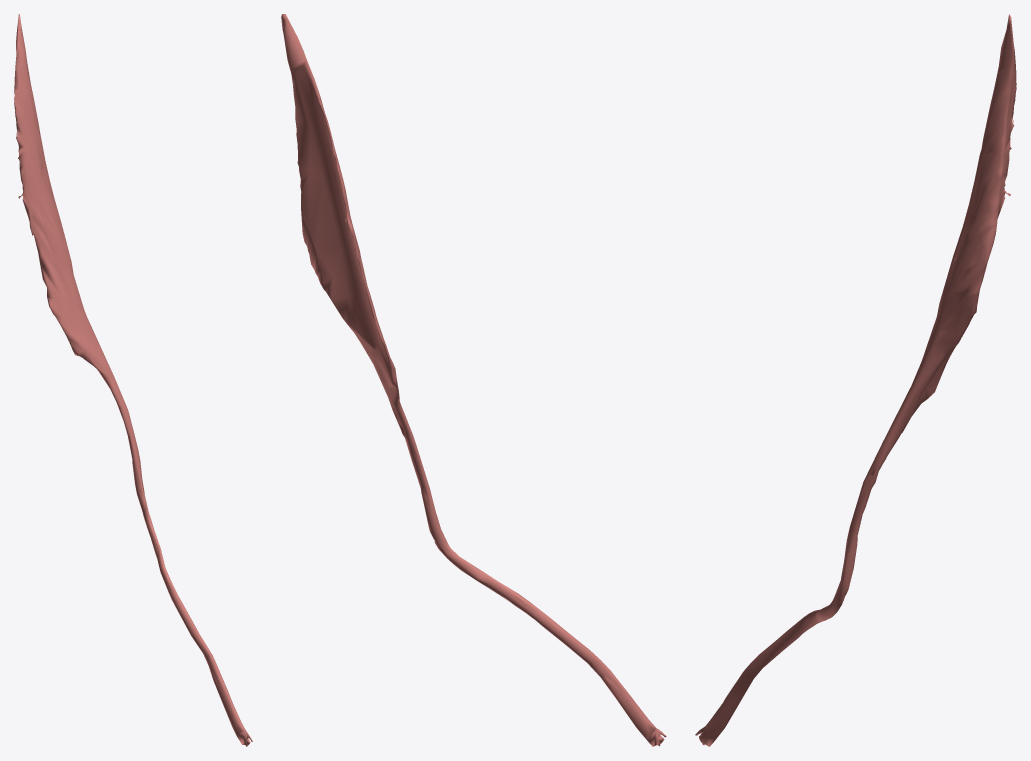
The picture shows the model from 3 angles, left to right: view 1: azimuth 90°, elevation 25°; view 2: azimuth 150°, elevation 25°; view 3: azimuth 270°, elevation 25°; orthographic projection. The views are drawn at different scales.
Parts seen in each view (by area): view 1: ZA_89e2ca7b60e58d88; view 2: ZA_89e2ca7b60e58d88; view 3: ZA_89e2ca7b60e58d88.
Boxes of the visible parts, bbox=[...] form: ZA_89e2ca7b60e58d88: bbox=[14, 14, 252, 746]; ZA_89e2ca7b60e58d88: bbox=[281, 14, 666, 746]; ZA_89e2ca7b60e58d88: bbox=[695, 14, 1016, 746].
Bounding box in the file's own units: 0.0781 × 0.2381 × 0.0808.
